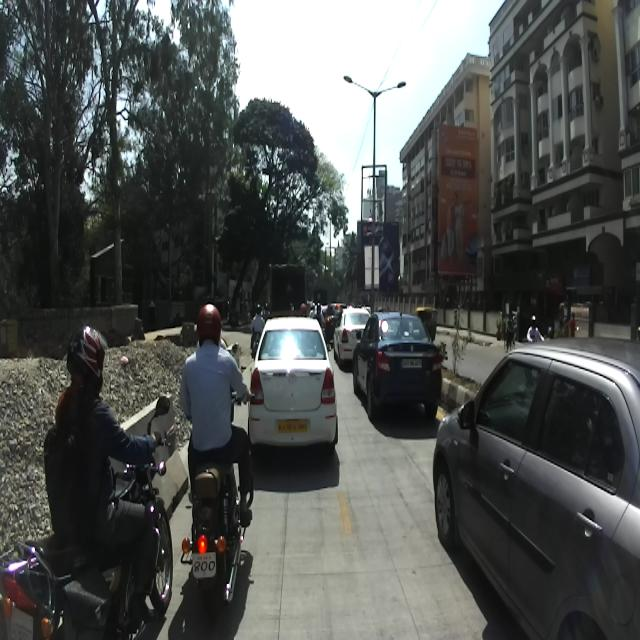car ahead at: (248, 316, 342, 462), (358, 304, 442, 420)
motorcycle ahead at: (180, 464, 248, 618)
